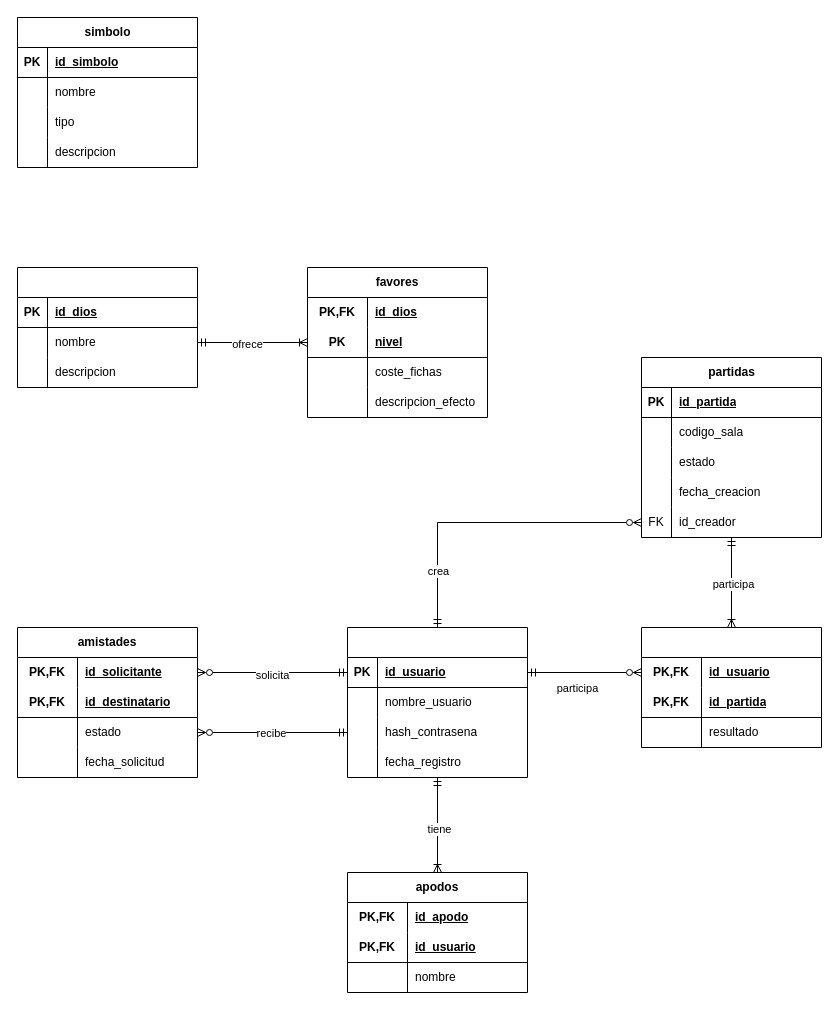
Some shapes in this 839 by 1010 pixel diagram are drawn without their labels. Here are the shapes that lost their labels. From the top down, the box of each, then its label:
(16, 266, 198, 388): dioses
(346, 626, 528, 778): usuarios
(640, 626, 822, 748): jugadores
